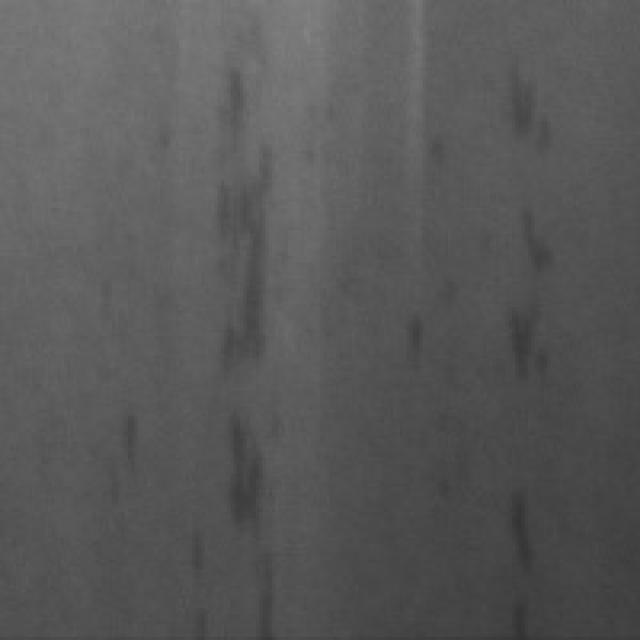inclusion: (198, 70, 272, 381), (483, 198, 563, 410), (208, 400, 272, 544), (493, 474, 544, 620), (484, 54, 550, 160), (93, 394, 144, 515)
